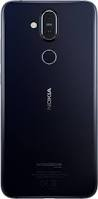nokia: (1, 1, 98, 199)
